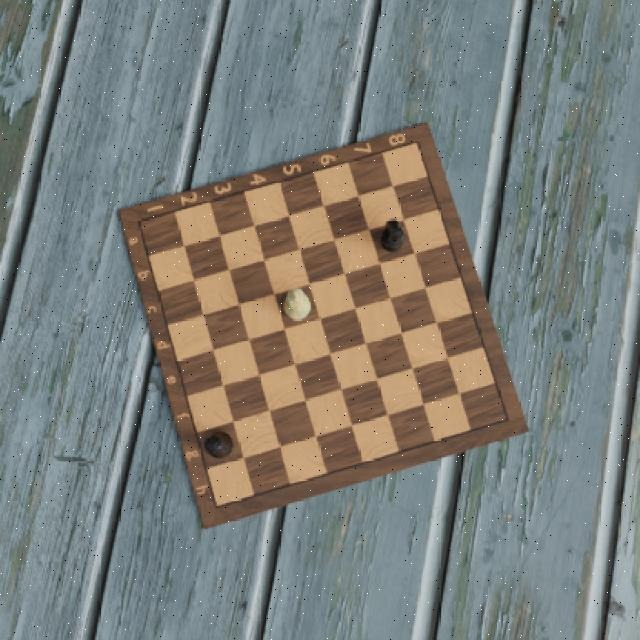black-king: (205, 430, 235, 462)
black-knight: (380, 218, 405, 254)
white-king: (280, 286, 311, 322)
